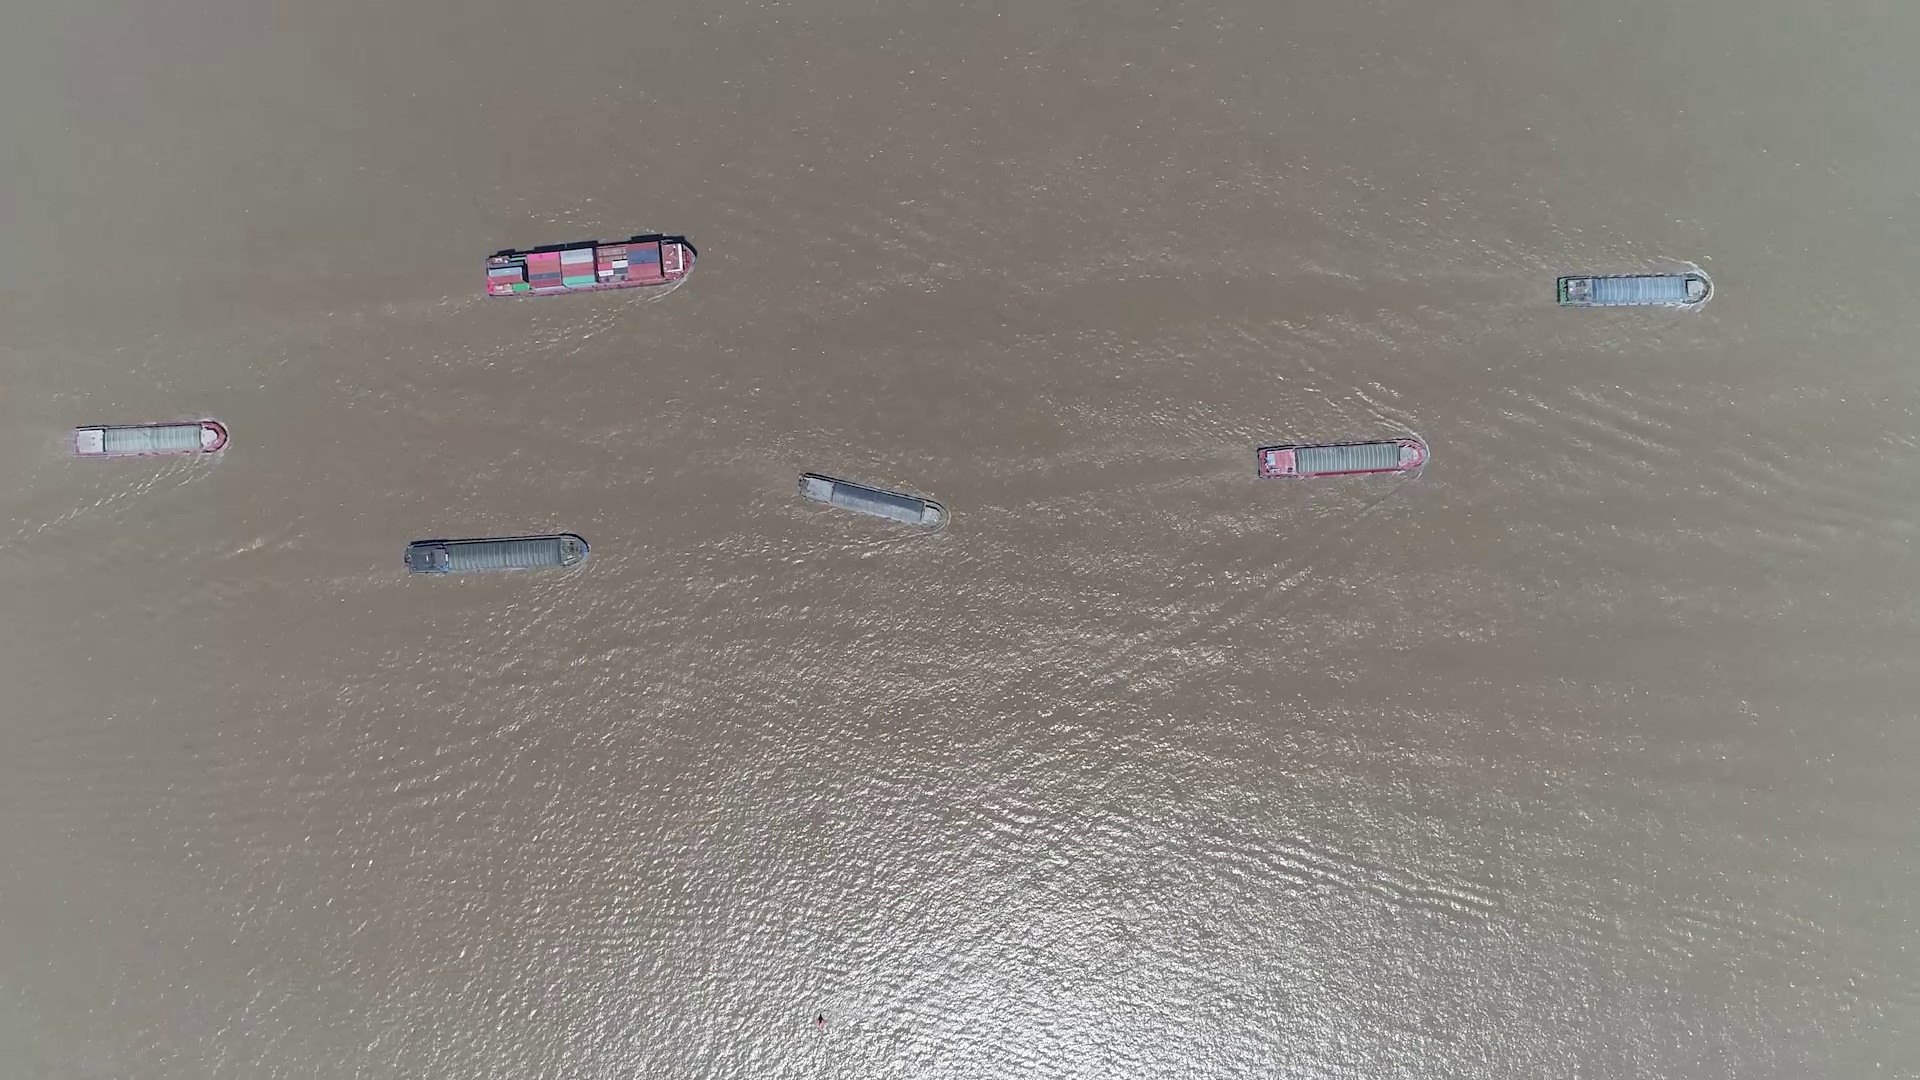ship: (483, 237, 694, 295), (798, 473, 945, 529), (404, 535, 588, 576), (1254, 439, 1428, 480), (71, 422, 228, 458), (1555, 274, 1705, 307)
